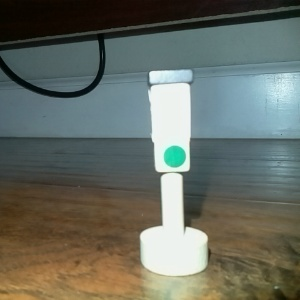traffic light green: (137, 67, 210, 278)
